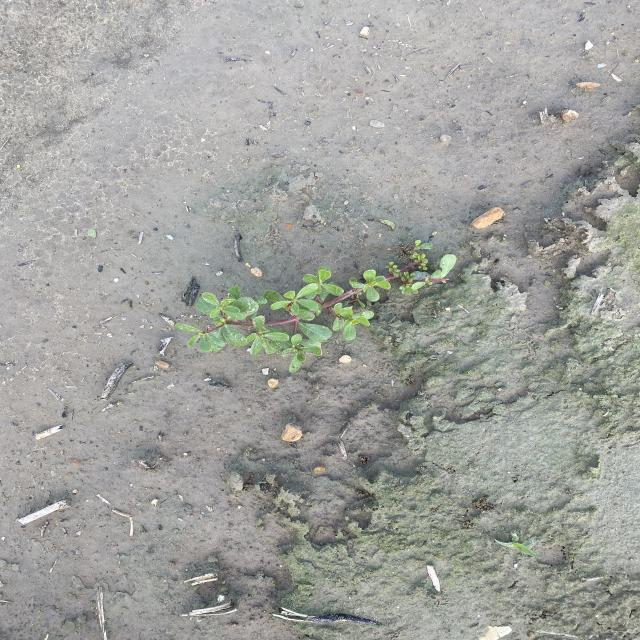Purslane: (170, 238, 460, 375)
